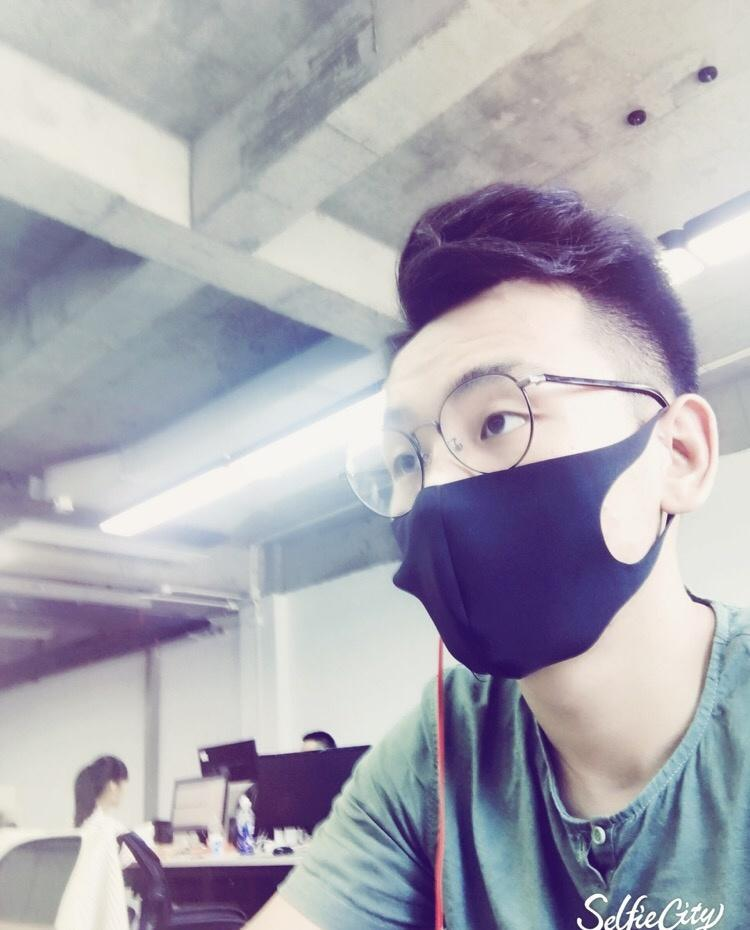OK: (366, 342, 702, 678)
